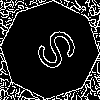S: (25, 25, 81, 81)
